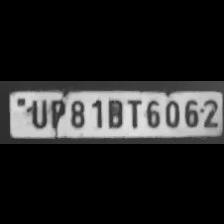0: (162, 96, 180, 126)
1: (88, 96, 104, 128)
2: (200, 95, 220, 127)
6: (142, 96, 160, 128), (181, 96, 199, 126)
8: (66, 96, 86, 128)
B: (104, 96, 124, 128)
P: (46, 96, 66, 128)
T: (124, 95, 142, 127)
U: (26, 97, 48, 127)
